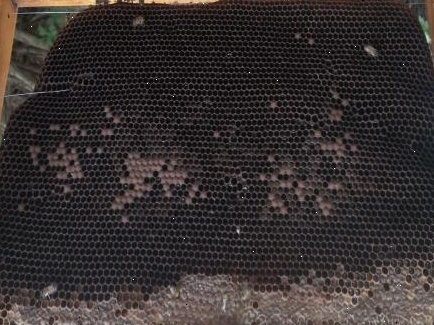cria: (16, 89, 357, 221)
